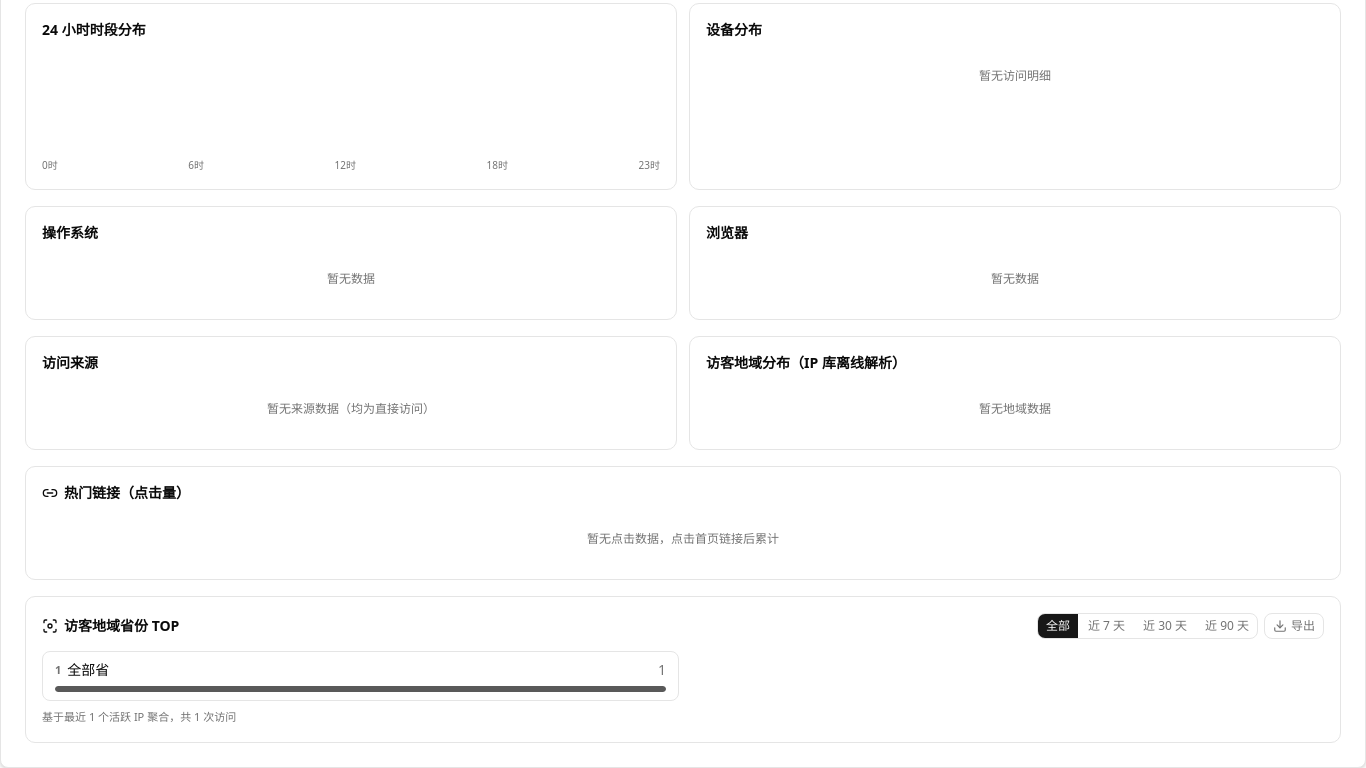
StatsPanel：访客地域时间范围切换的竞态 › 旧请求后返回时被丢弃，不覆盖新范围的数据
(page scrolled)
expect the text "全部省" is shown: met, box 67,660 -> 109,680
# 连点两个范围：近 7 天（挂起）+ 近 30 天（立即返回）
Click the button "近 7 天": (1106, 626) 1080,614 -> 1133,638
(page scrolled)
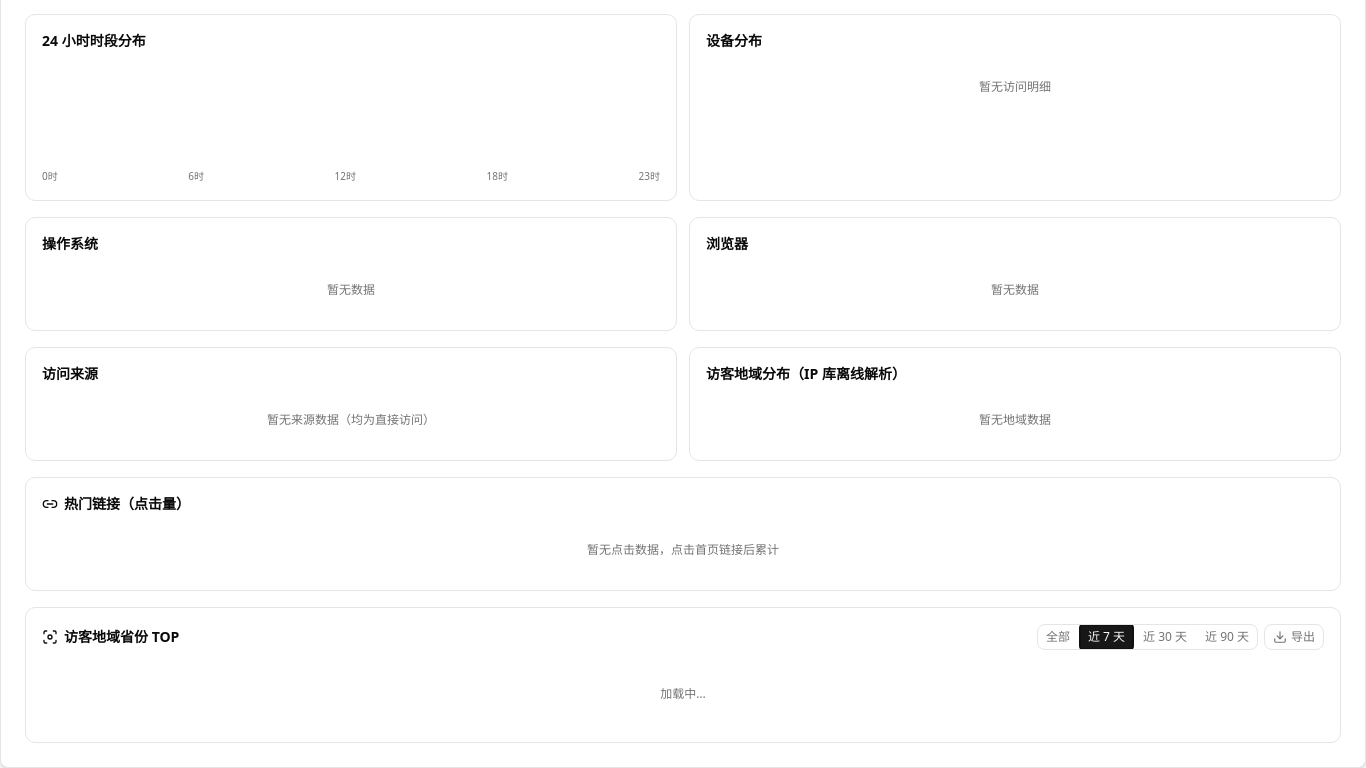
Click the button "近 30 天": (1165, 637) 1135,625 -> 1195,649
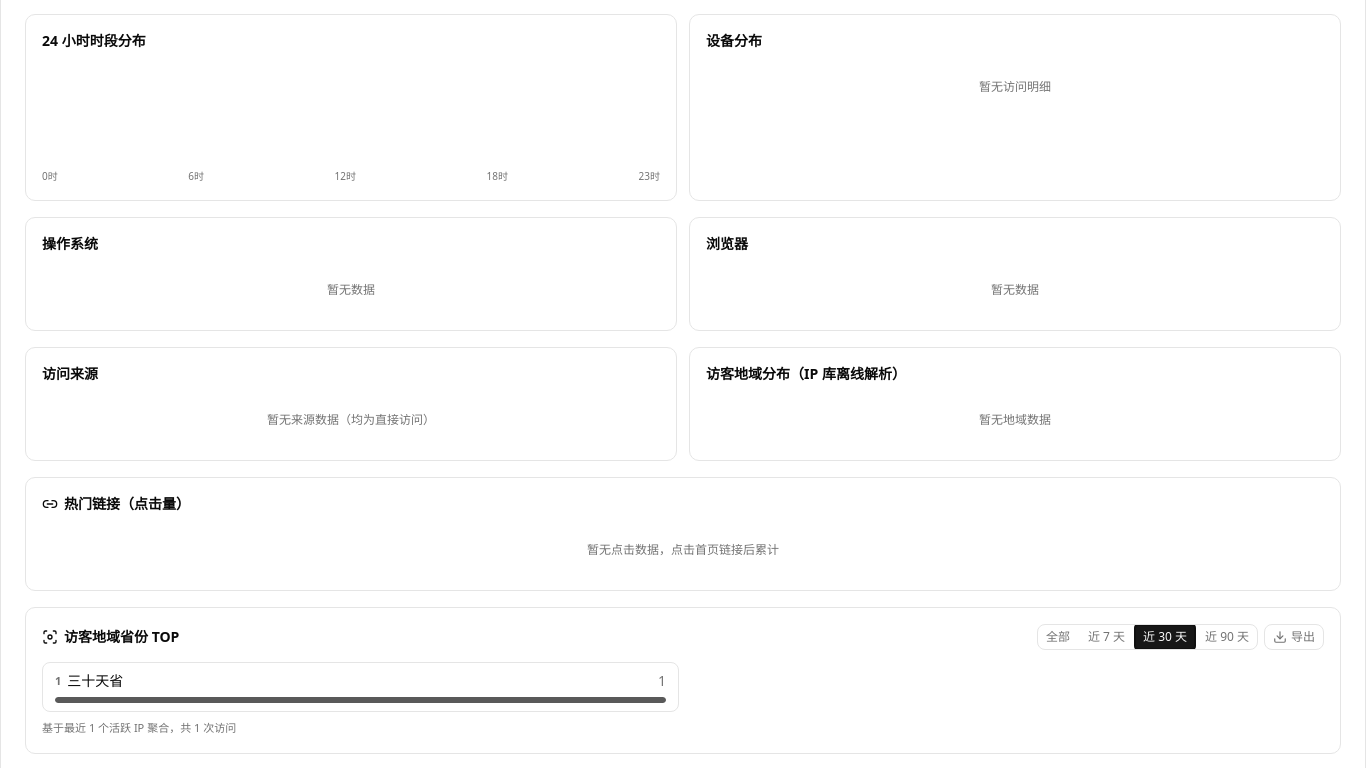
expect the text "三十天省" is shown: met, box 67,671 -> 123,691
